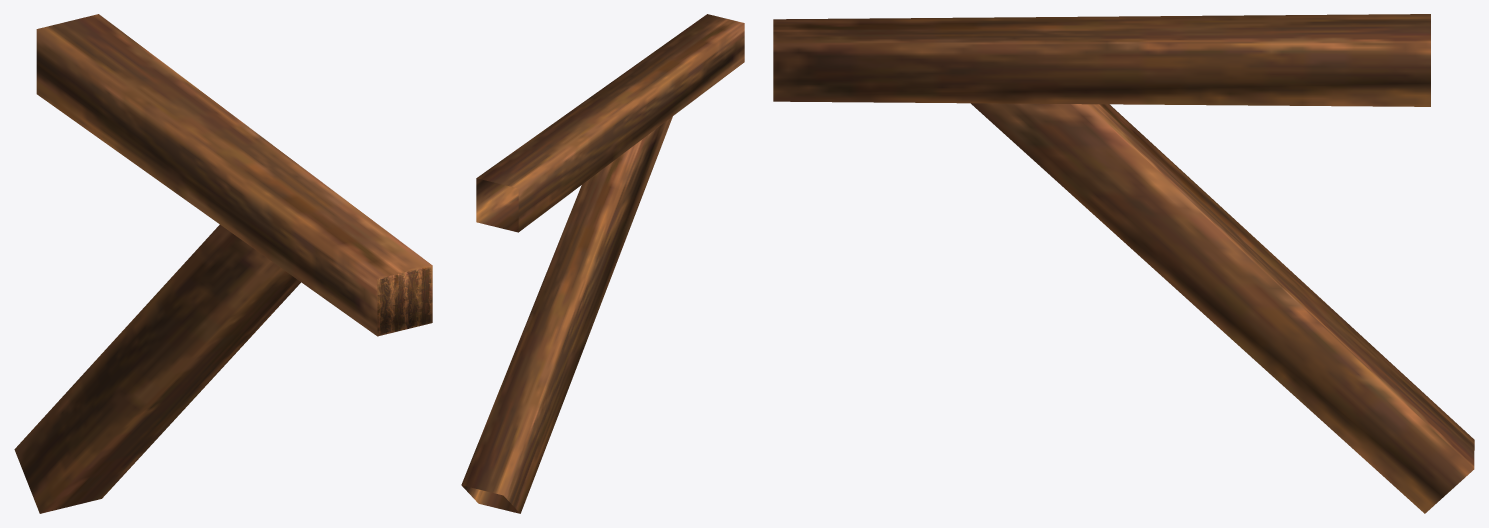
Rendered from INST_SWORDLIGHT_TRACKBRACKA.fbx.
3 renders of one model, left to right at view 1: azimuth 30°, elevation 25°; view 2: azimuth 150°, elevation 25°; view 3: azimuth 270°, elevation 25°, orthographic. The views are drawn at different scales.
Parts seen in each view (by area): view 1: INST_SWORDLIGHT_TRACKBRACKA; view 2: INST_SWORDLIGHT_TRACKBRACKA; view 3: INST_SWORDLIGHT_TRACKBRACKA.
Boxes of the visible parts, bbox=[...] form: INST_SWORDLIGHT_TRACKBRACKA: bbox=[14, 14, 432, 513]; INST_SWORDLIGHT_TRACKBRACKA: bbox=[461, 14, 744, 513]; INST_SWORDLIGHT_TRACKBRACKA: bbox=[773, 14, 1474, 513].
Size of the model in its own units: 4579 by 33972 by 45879.
1 material, 1 textured.
